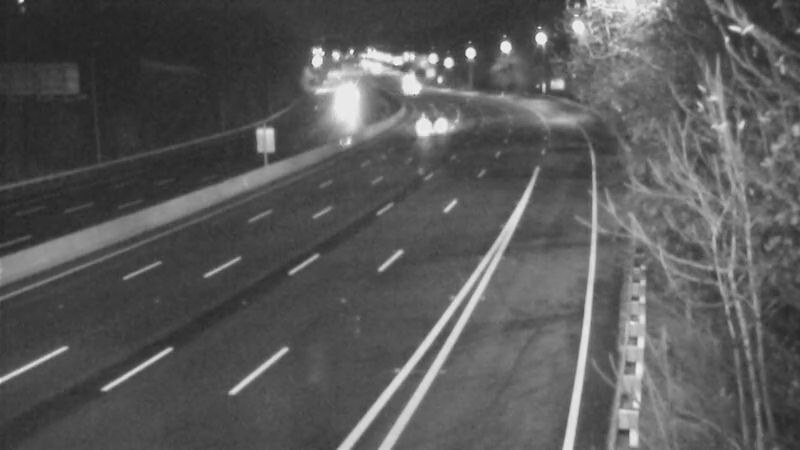vehicle: (406, 104, 456, 154), (323, 90, 373, 140)
